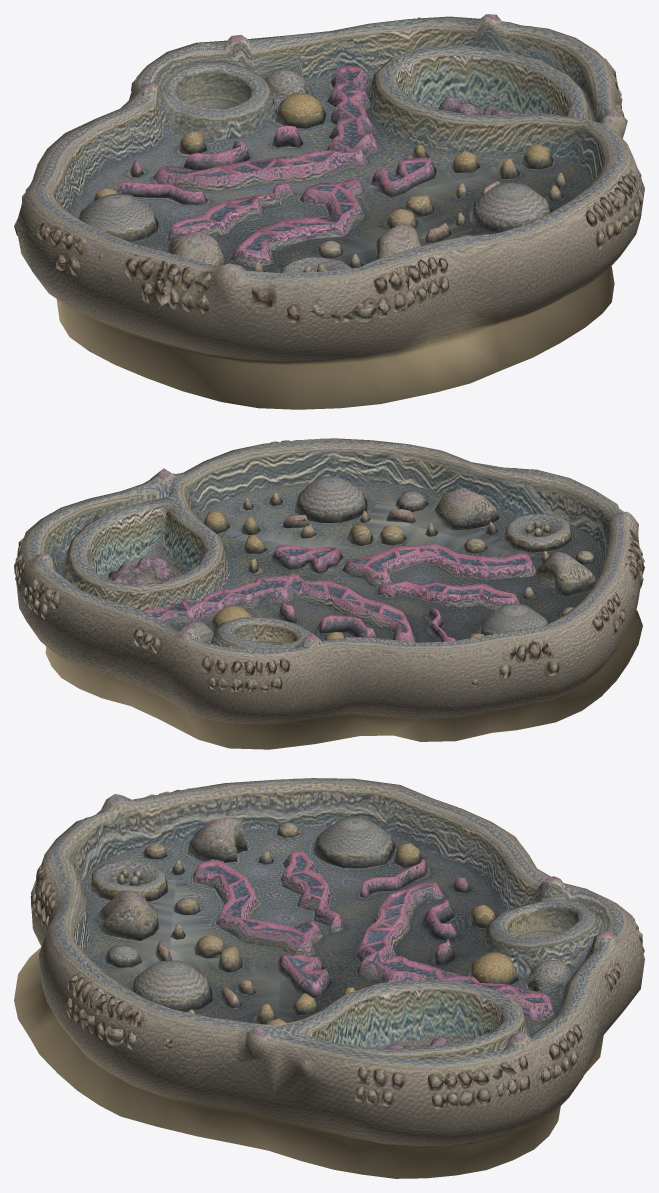
The model's file is progenote-tripo.failed-tripo.glb.
3 views of the same model, one above another, from view 1: azimuth 30°, elevation 25°; view 2: azimuth 150°, elevation 25°; view 3: azimuth 270°, elevation 25° (orthographic). The views are drawn at different scales.
Visible parts, largest first — view 1: tripo_node_8fa25b35-3605-4a26-8b5b-40b113d2c186; view 2: tripo_node_8fa25b35-3605-4a26-8b5b-40b113d2c186; view 3: tripo_node_8fa25b35-3605-4a26-8b5b-40b113d2c186.
Part boxes in pixels (x1,y1,x2,y2): tripo_node_8fa25b35-3605-4a26-8b5b-40b113d2c186: (14, 14, 644, 409); tripo_node_8fa25b35-3605-4a26-8b5b-40b113d2c186: (14, 438, 644, 749); tripo_node_8fa25b35-3605-4a26-8b5b-40b113d2c186: (14, 778, 644, 1178).
Bounding box in the file's own units: 1.05 × 0.2363 × 0.9449.
1 material, 1 textured.
